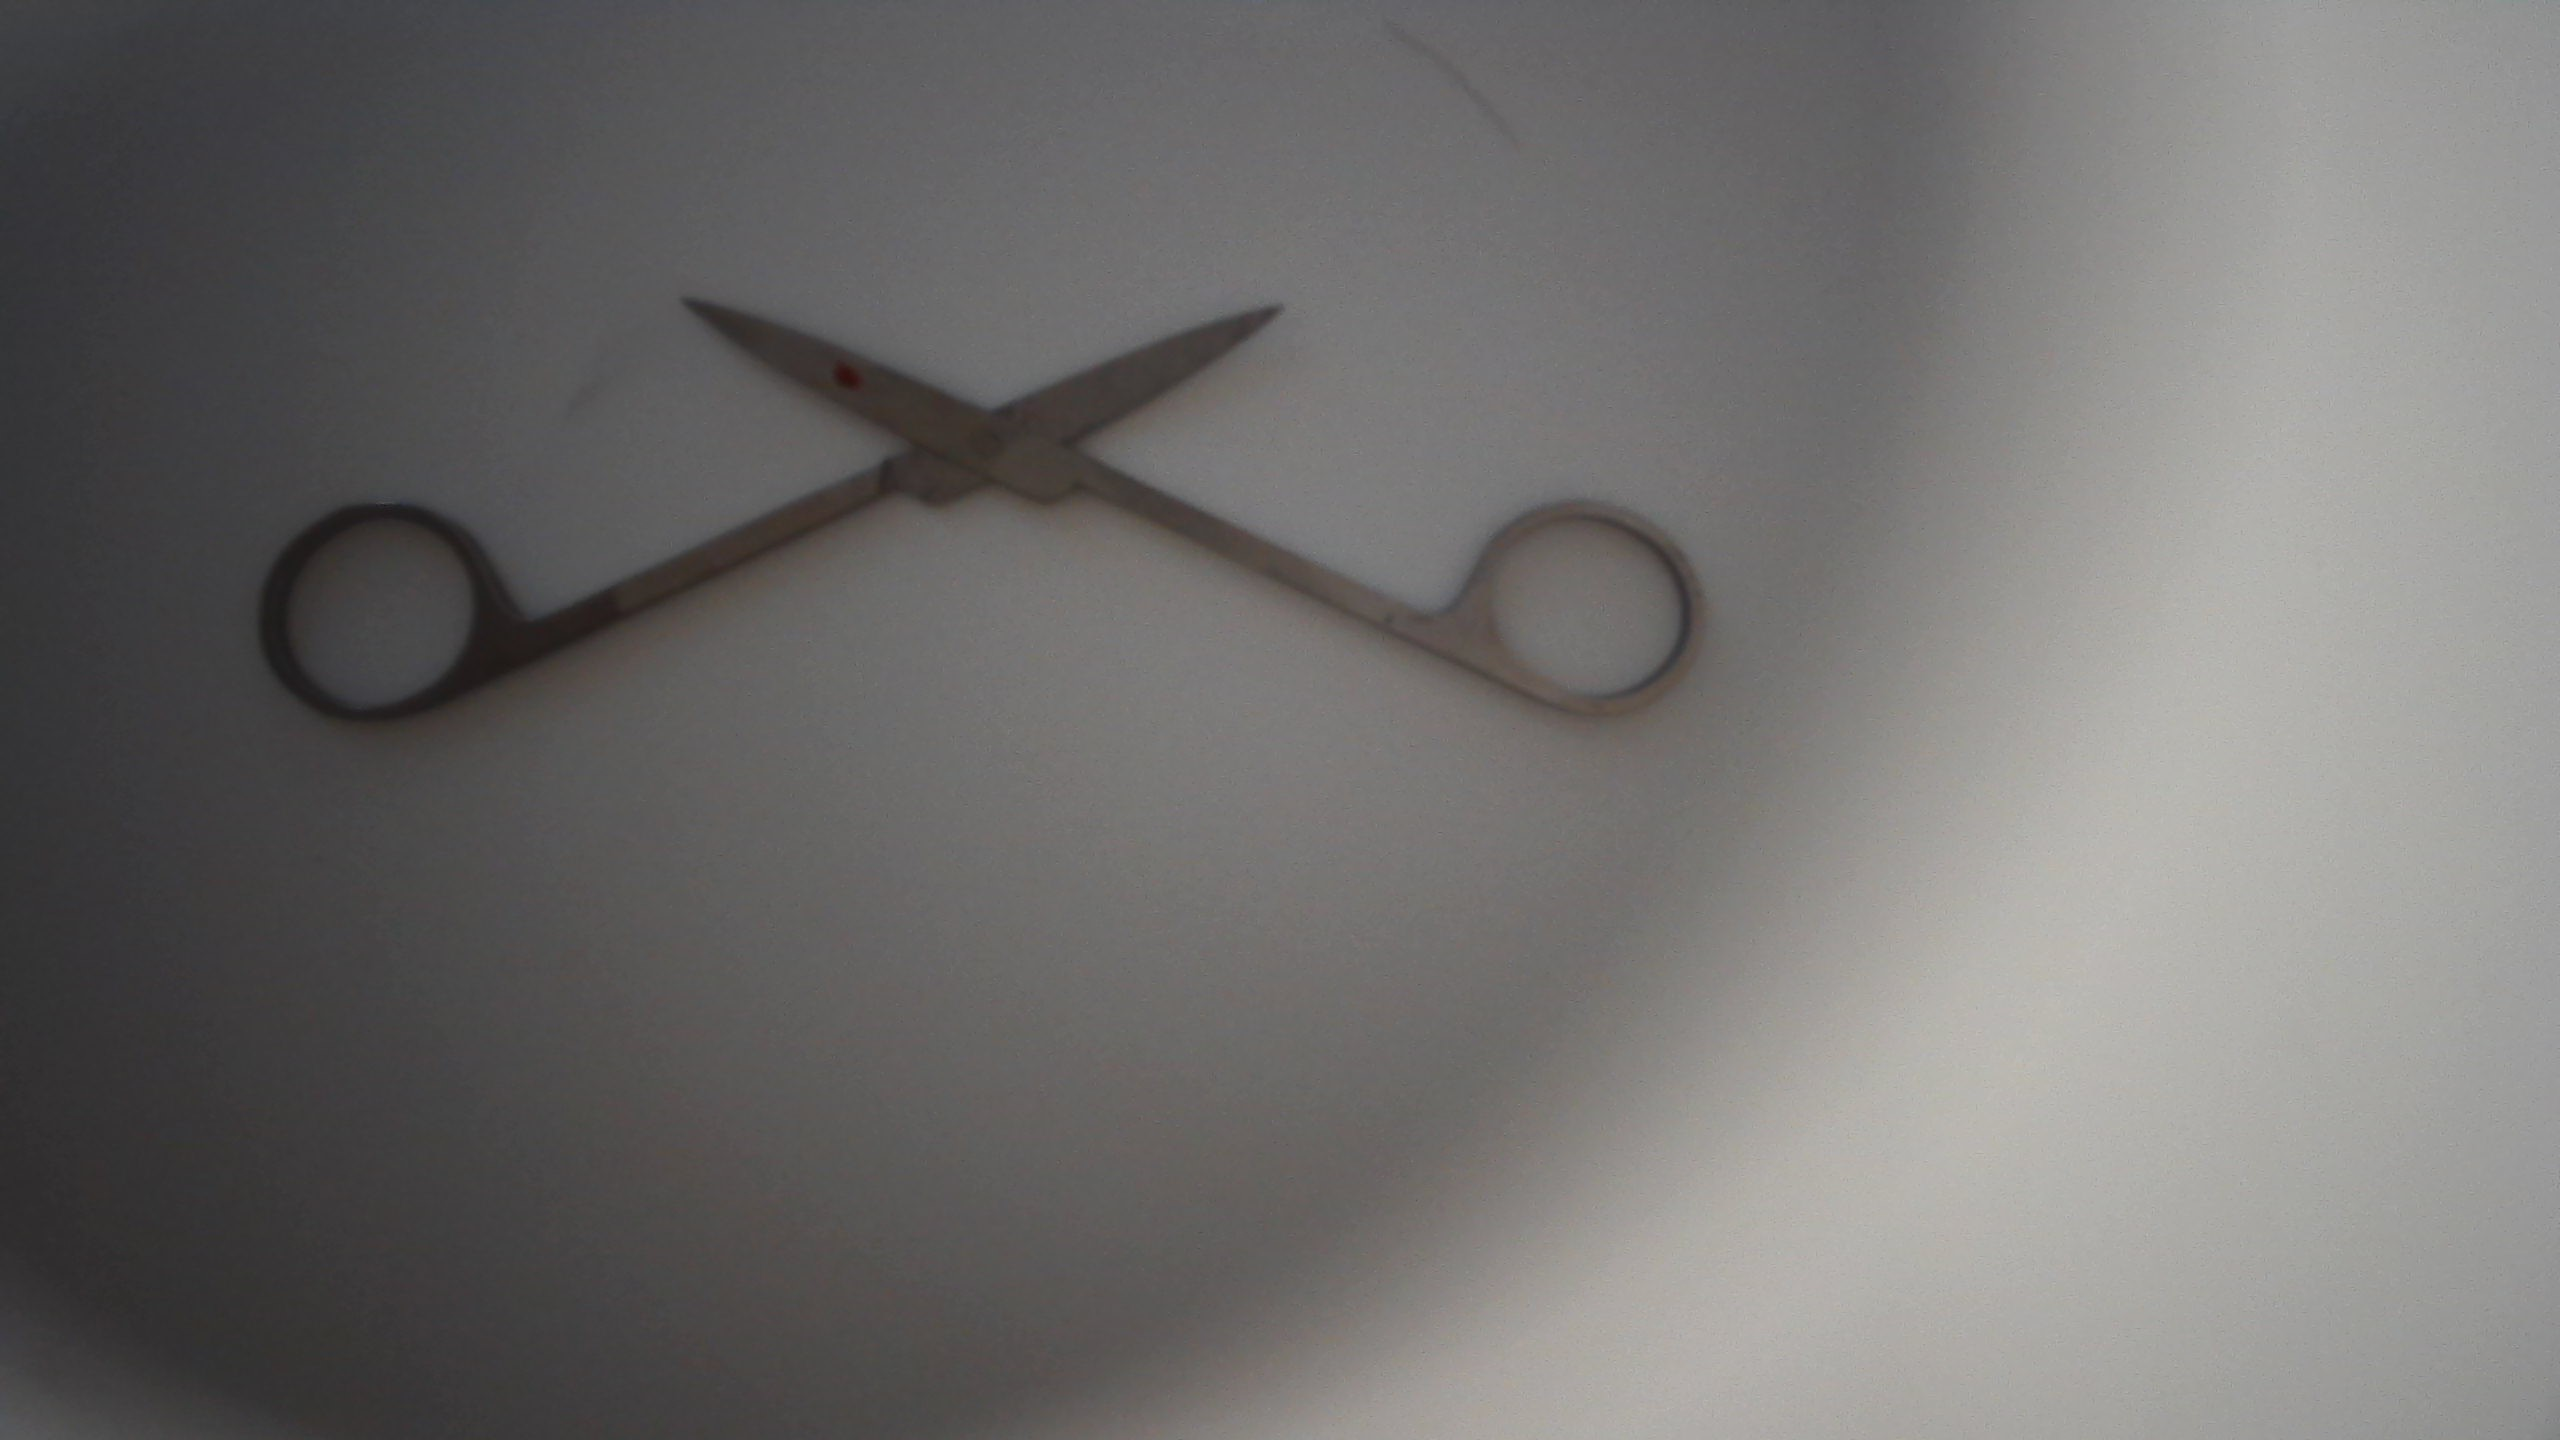Stain: (828, 352, 865, 389)
